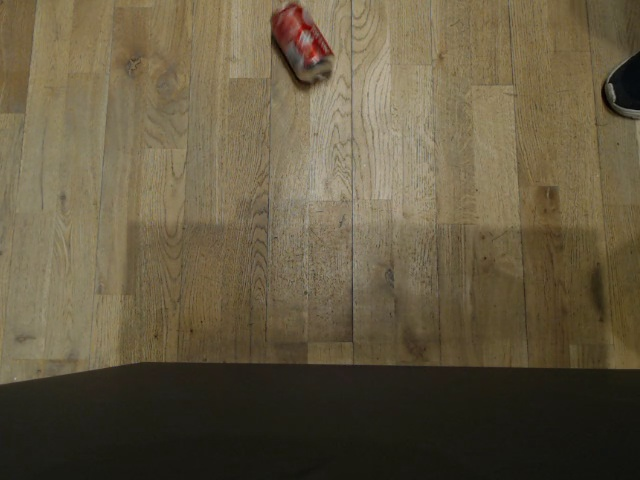cola: (267, 2, 339, 86)
